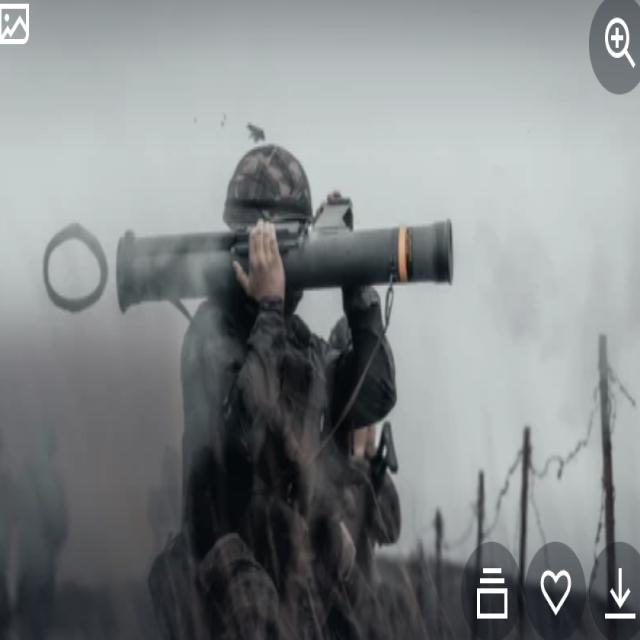bazooka: (105, 205, 460, 323)
